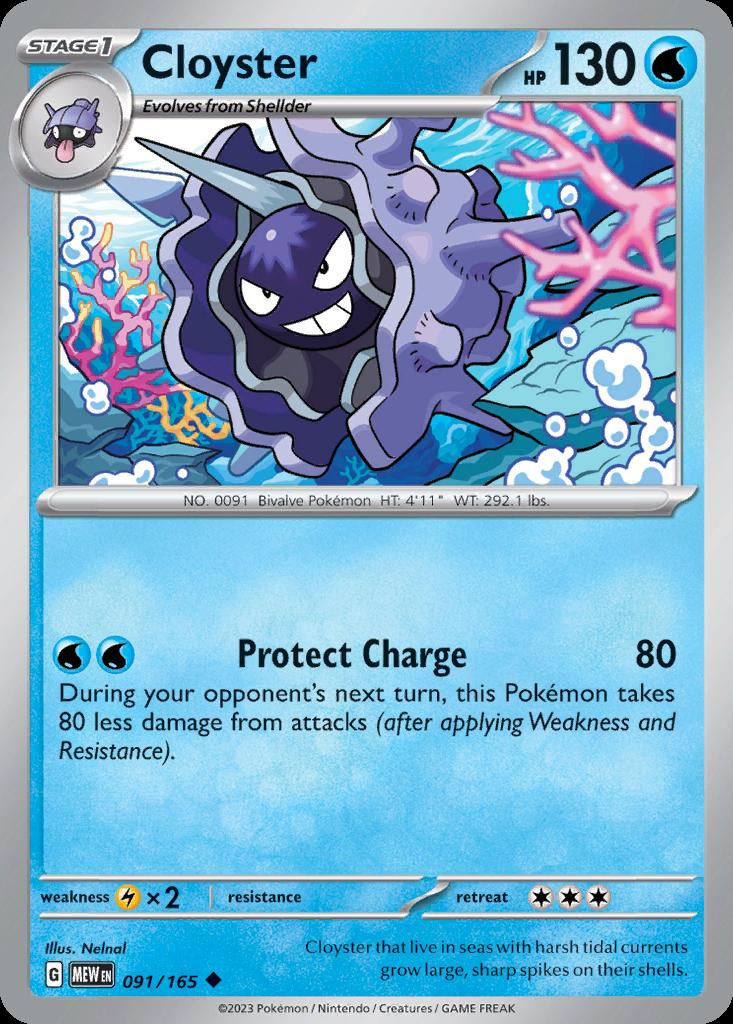card: (1, 3, 729, 1024)
hp: (509, 31, 704, 89)
name: (134, 31, 326, 90)
set num: (123, 964, 204, 993)
set symbol: (67, 964, 119, 990)
